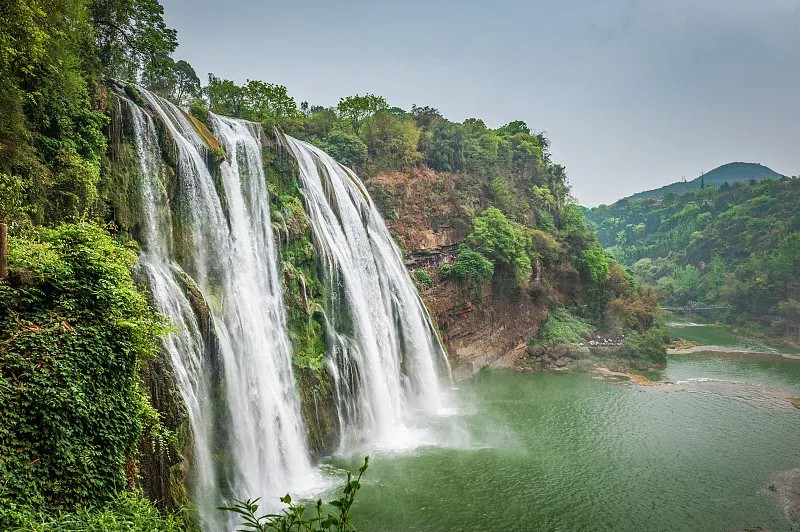Huangguoshu: (112, 81, 453, 532)
